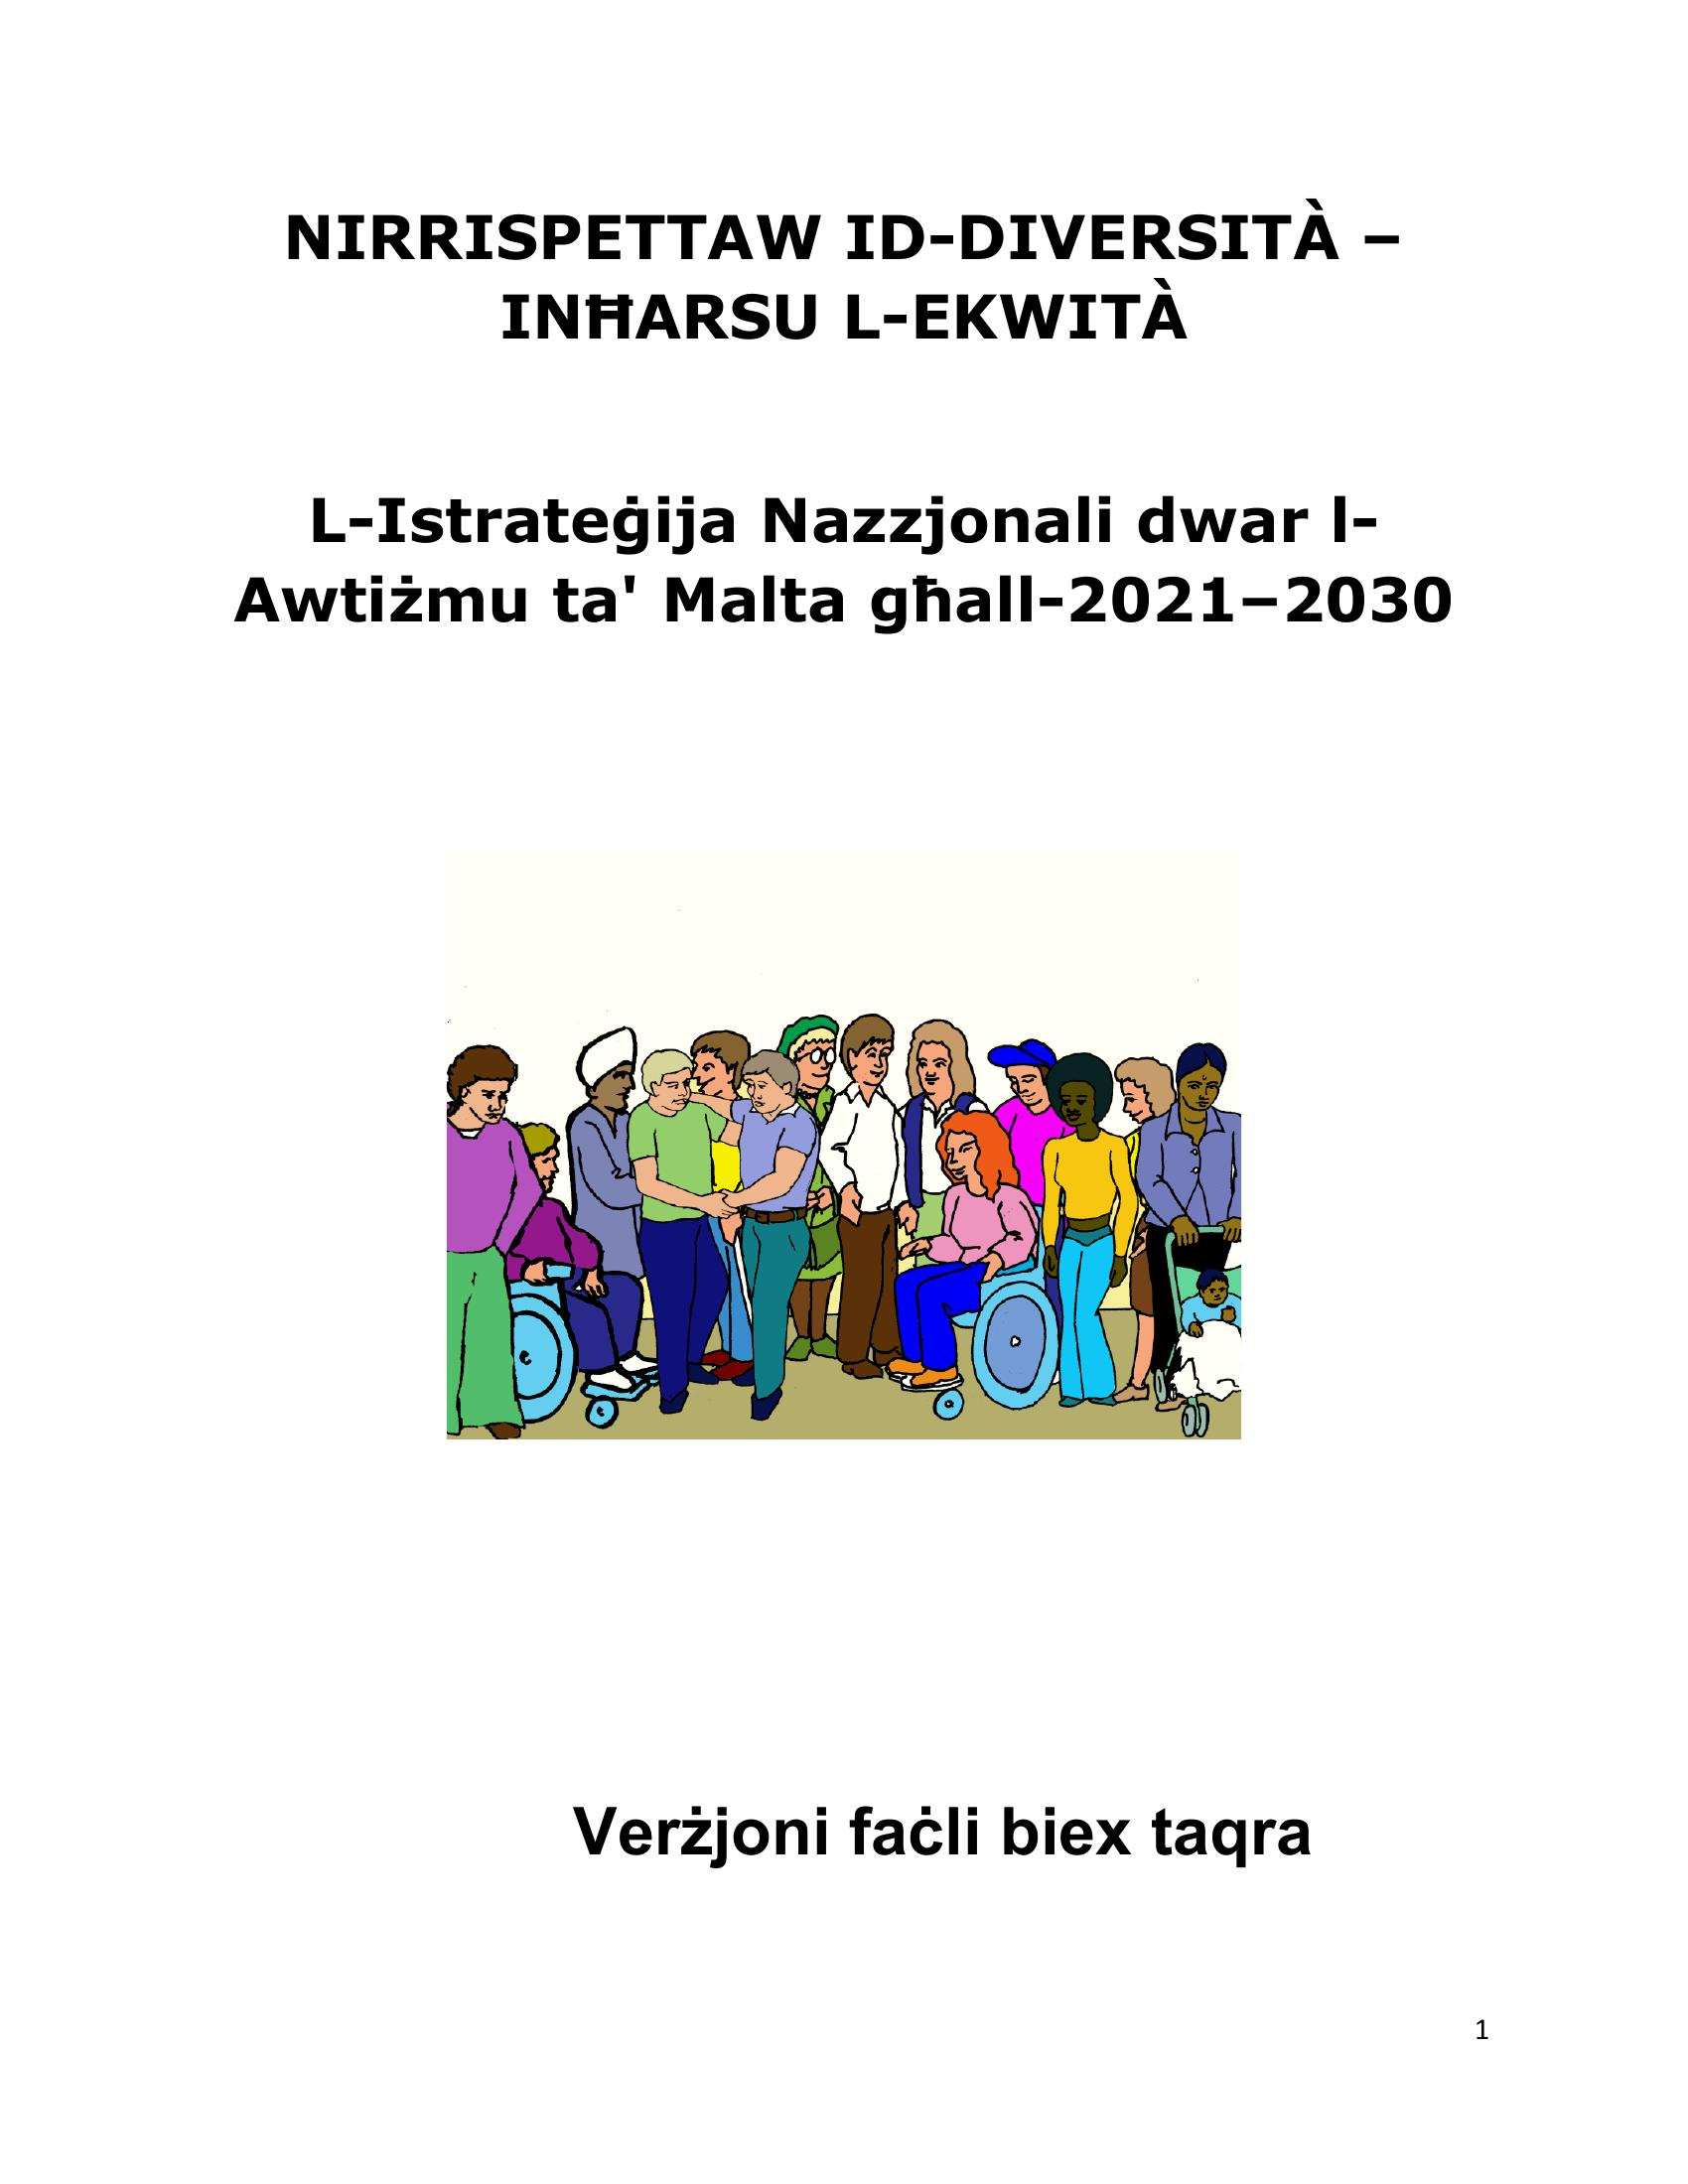text: (211, 175, 1481, 652), (541, 1767, 1337, 1895)
